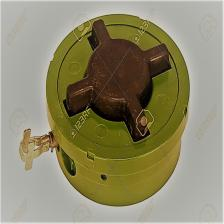PMN2: (20, 11, 196, 205)
